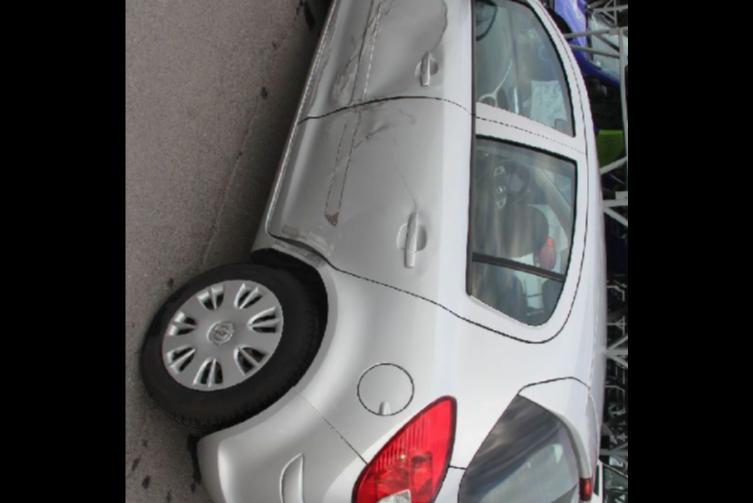Broken part: (267, 231, 339, 272)
Dent: (330, 0, 447, 113), (272, 202, 360, 266), (325, 107, 375, 149), (397, 180, 428, 239)
Missing part: (323, 0, 381, 227)
Paint chip: (338, 113, 360, 209), (307, 51, 330, 111), (353, 123, 386, 150), (335, 122, 346, 164), (323, 212, 340, 226), (349, 33, 358, 51)
Scratch: (276, 241, 316, 260), (324, 162, 337, 211), (325, 13, 339, 46), (371, 2, 380, 42), (362, 75, 369, 101), (369, 44, 373, 60), (367, 63, 371, 71)
